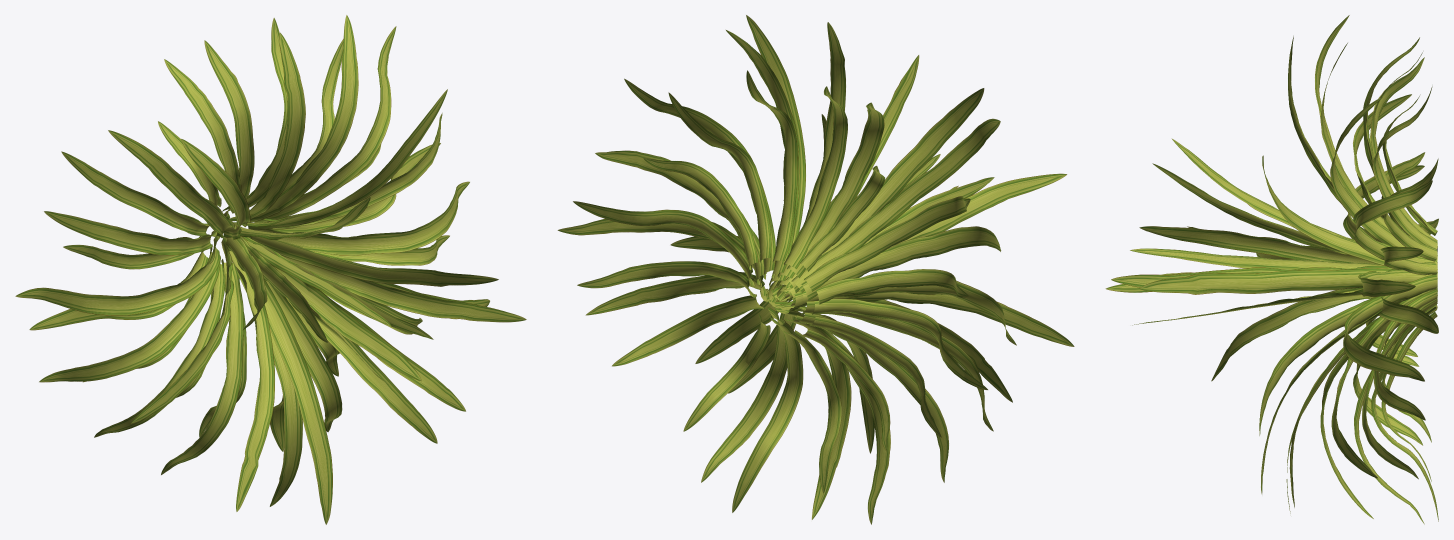
The model's file is reeds.glb.
The picture shows the model from 3 angles, left to right: view 1: azimuth 30°, elevation 25°; view 2: azimuth 150°, elevation 25°; view 3: azimuth 270°, elevation 25°; orthographic projection. The views are drawn at different scales.
Parts seen in each view (by area): view 1: org_reeds; view 2: org_reeds; view 3: org_reeds.
Part boxes in pixels (bbox=[...]): org_reeds: bbox=[15, 15, 526, 524]; org_reeds: bbox=[557, 15, 1074, 524]; org_reeds: bbox=[1105, 15, 1438, 524].
Size of the model in its own units: 0.9831 by 1 by 0.6369.
1 material, 1 textured.
